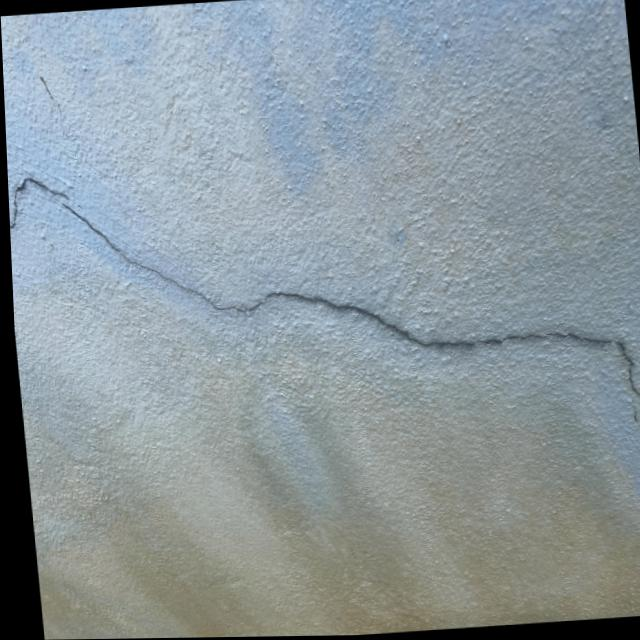Crack: (5, 124, 640, 459)
